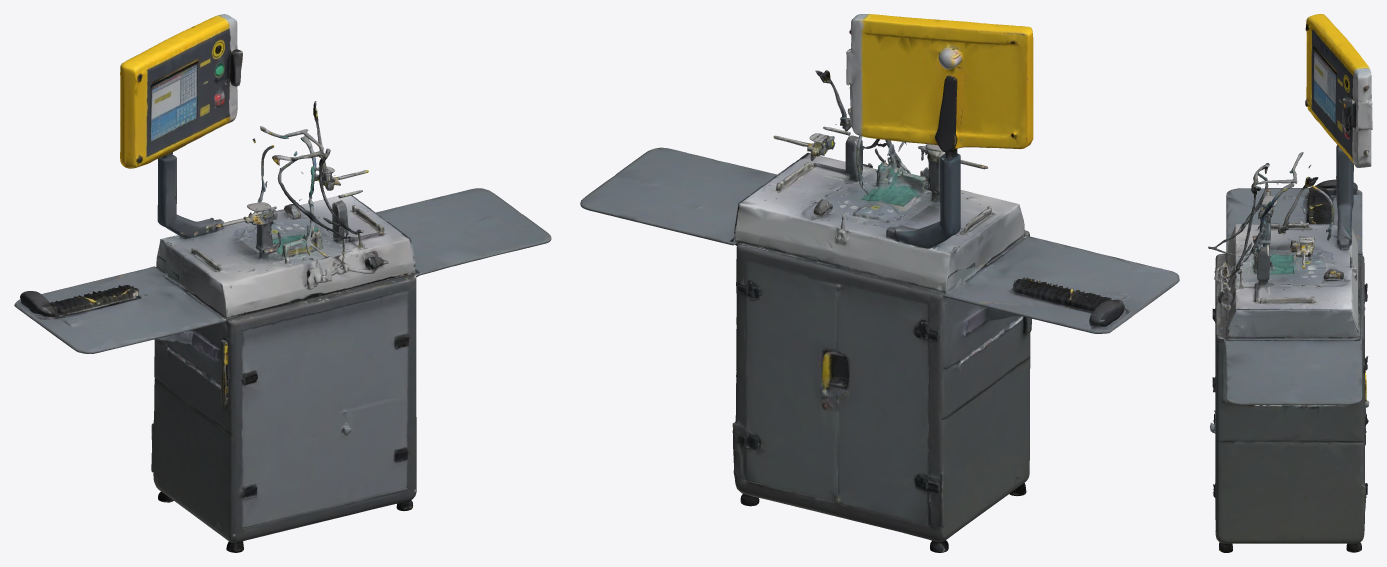
The model's file is tikuv.glb.
3 renders of one model, left to right at view 1: azimuth 30°, elevation 25°; view 2: azimuth 150°, elevation 25°; view 3: azimuth 270°, elevation 25°, orthographic. The views are drawn at different scales.
Visible parts, largest first — view 1: Object_4; view 2: Object_4; view 3: Object_4.
Boxes of the visible parts, left/top/right/bottom form: Object_4: left=14, top=14, right=551, bottom=552; Object_4: left=580, top=14, right=1179, bottom=552; Object_4: left=1208, top=14, right=1372, bottom=552.
Size of the model in its own units: 2 by 1.87 by 0.6455.
1 material, 1 textured.
